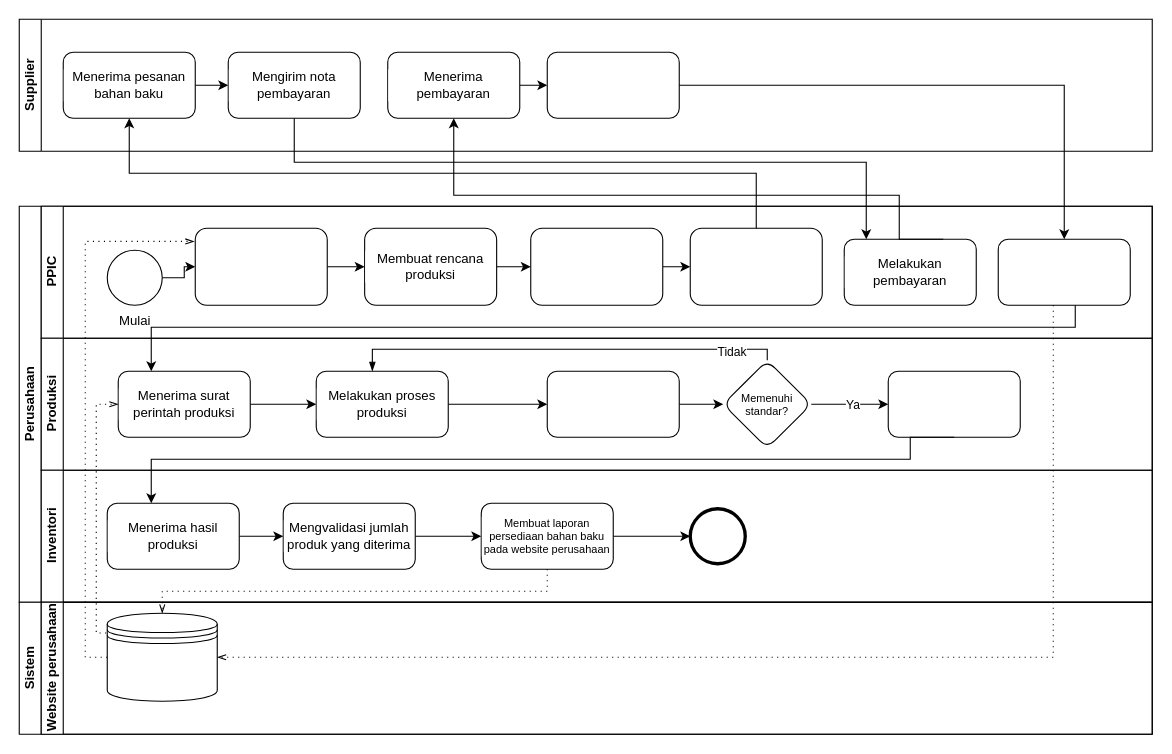
This 1172x754 diagram has some shape labels left out. The centre of each missing label's shape, as x and y in pixels:
DB PT. Star Cosmos: the point at 161,656
Hasil produksi diteruskan ke inventori: the point at 953,403
Melakukan quality control: the point at 612,403
Memesan bahan baku ke supplier: the point at 755,266
Menerima bahan baku dan membuat surat perintah produksi: the point at 1063,271
Menerima form permintaan produksi: the point at 260,266
Mengirim bahan baku: the point at 612,84
Menyusun RAPB: the point at 596,266
Selesai: the point at 717,536
